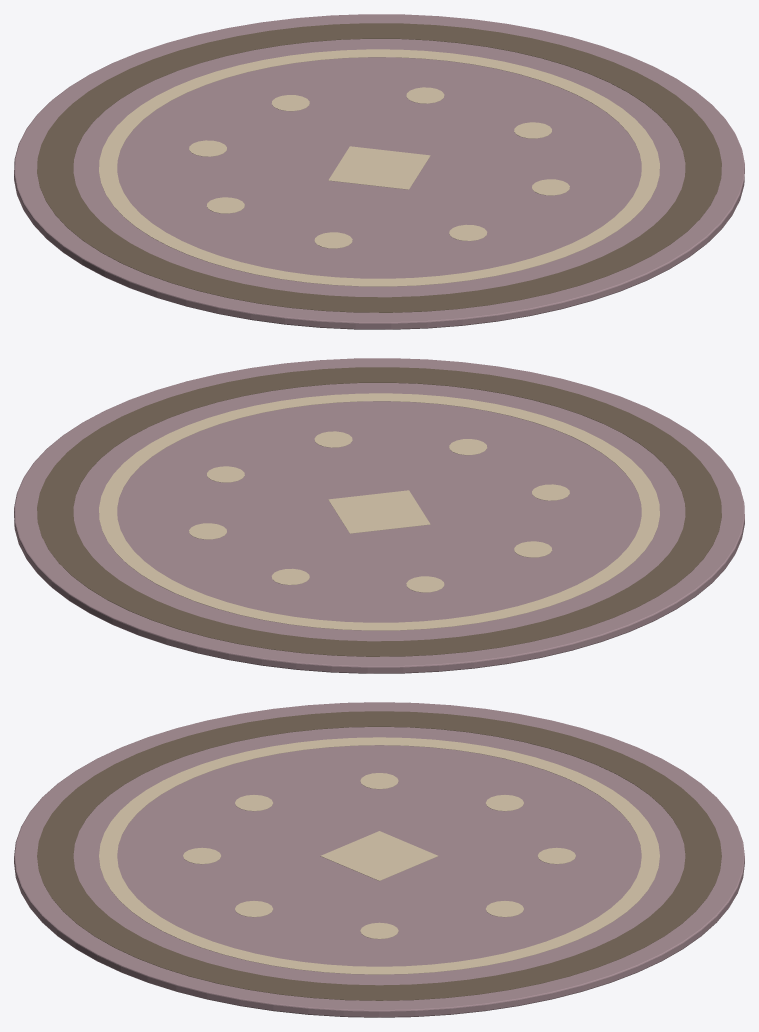
The model's file is rug.glb.
The picture shows the model from 3 angles, top to bottom: view 1: azimuth 30°, elevation 25°; view 2: azimuth 150°, elevation 25°; view 3: azimuth 270°, elevation 25°; orthographic projection.
Parts seen in each view (by area): view 1: closed-textile-backing, round-bound-border, inner-woven-band, central-woven-medallion; view 2: closed-textile-backing, round-bound-border, inner-woven-band, central-woven-medallion; view 3: closed-textile-backing, round-bound-border, inner-woven-band, central-woven-medallion.
Boxes of the visible parts, x1=… form: closed-textile-backing: x1=14, y1=14, x2=744, y2=329; round-bound-border: x1=37, y1=23, x2=721, y2=312; inner-woven-band: x1=99, y1=49, x2=659, y2=286; central-woven-medallion: x1=328, y1=146, x2=430, y2=189; closed-textile-backing: x1=14, y1=358, x2=744, y2=673; round-bound-border: x1=37, y1=367, x2=721, y2=656; inner-woven-band: x1=99, y1=393, x2=659, y2=630; central-woven-medallion: x1=328, y1=490, x2=430, y2=533; closed-textile-backing: x1=14, y1=702, x2=744, y2=1017; round-bound-border: x1=37, y1=711, x2=721, y2=1000; inner-woven-band: x1=99, y1=737, x2=659, y2=974; central-woven-medallion: x1=320, y1=831, x2=438, y2=880.
Bounding box in the file's own units: 2.47 × 0.0295 × 2.47.
